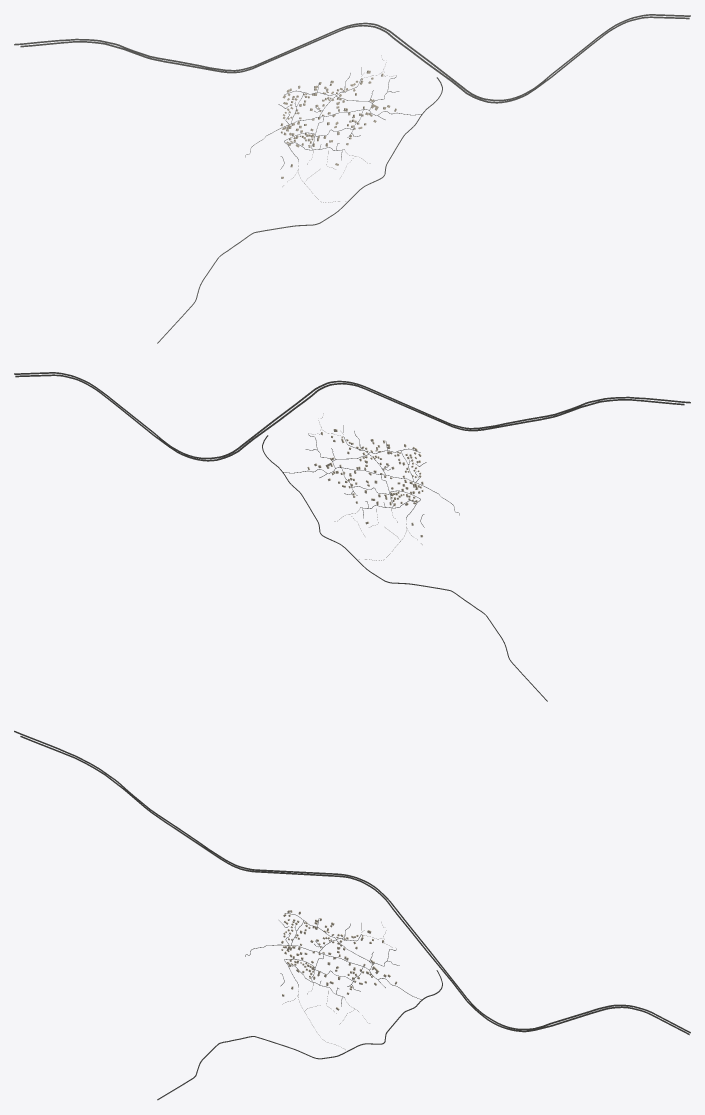
File: historic-palestine-09_24_3507_3188.glb
The picture shows the model from 3 angles, top to bottom: view 1: azimuth 30°, elevation 25°; view 2: azimuth 150°, elevation 25°; view 3: azimuth 330°, elevation 25°; orthographic projection.
Parts seen in each view (by area): view 1: Road דרך הלווים.001, Road דרך הלווים, Road 4430; view 2: Road דרך הלווים.001, Road דרך הלווים, Road 4430; view 3: Road דרך הלווים.001, Road דרך הלווים, Road 4430.
Boxes of the visible parts, x1,y1,x2,y2 form: Road דרך הלווים.001: (14, 14, 690, 101); Road דרך הלווים: (20, 16, 689, 103); Road 4430: (157, 77, 442, 343); Road דרך הלווים.001: (14, 372, 690, 459); Road דרך הלווים: (15, 374, 684, 461); Road 4430: (262, 435, 547, 701); Road דרך הלווים.001: (14, 730, 690, 1033); Road דרך הלווים: (20, 736, 689, 1035); Road 4430: (157, 970, 442, 1100).
Size of the model in its own units: 5366 by 2538 by 8.7.
